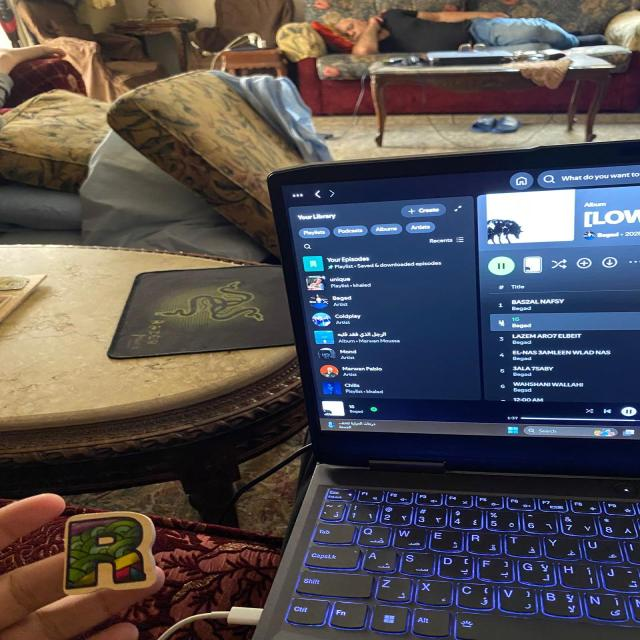R: (63, 511, 155, 594)
